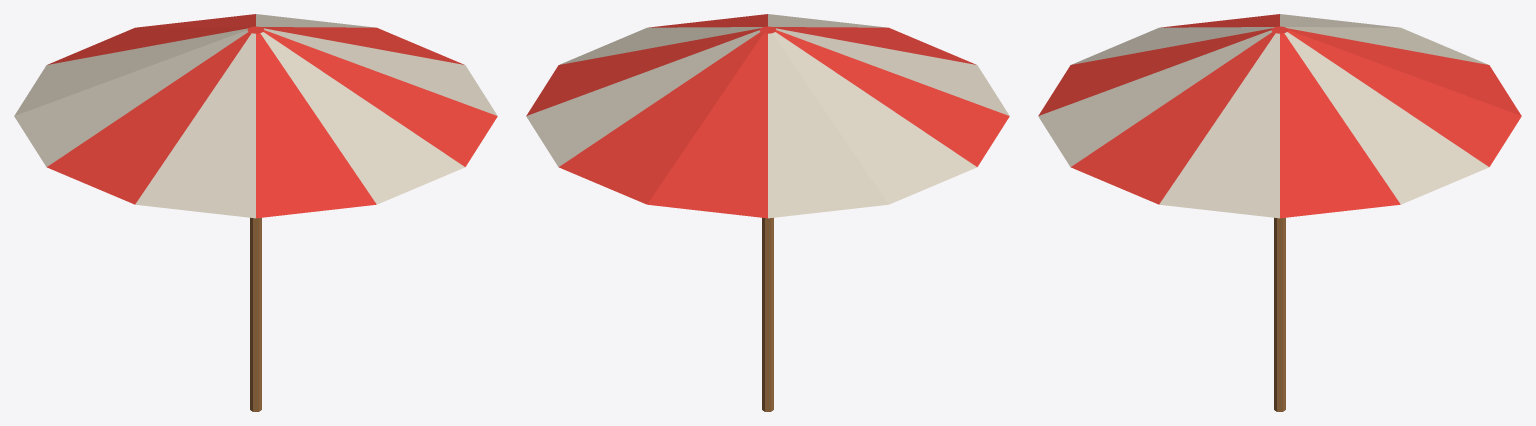
Rendered from prop_beach_umbrella.glb.
The picture shows the model from 3 angles, left to right: view 1: azimuth 30°, elevation 25°; view 2: azimuth 150°, elevation 25°; view 3: azimuth 270°, elevation 25°; orthographic projection.
Parts seen in each view (by area): view 1: Cone, Cylinder; view 2: Cone, Cylinder; view 3: Cone, Cylinder.
Part boxes in pixels (x1,y1,x2,y2): Cone: (14, 14, 497, 218); Cylinder: (250, 217, 261, 411); Cone: (526, 14, 1009, 218); Cylinder: (762, 217, 773, 411); Cone: (1038, 14, 1521, 218); Cylinder: (1274, 217, 1285, 411).
Size of the model in its own units: 2.8 by 2.42 by 2.8.
